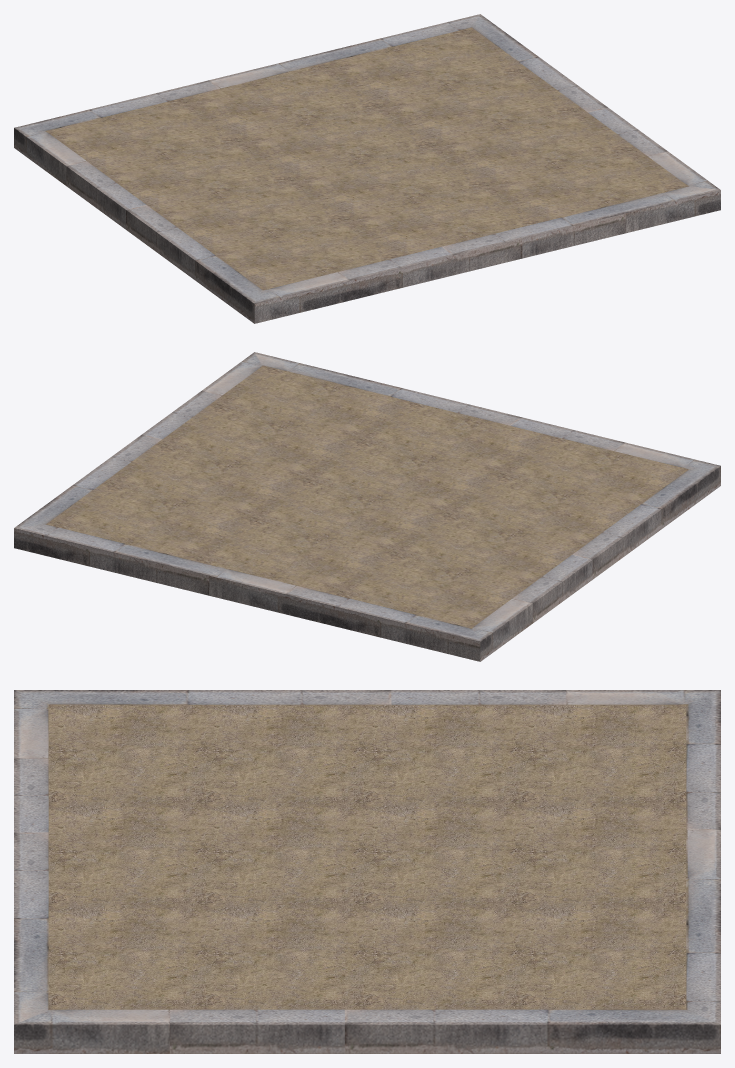
Rendered from SM_Sun_Kak_Kidan.fbx.
The picture shows the model from 3 angles, top to bottom: view 1: azimuth 30°, elevation 25°; view 2: azimuth 150°, elevation 25°; view 3: azimuth 270°, elevation 25°; orthographic projection. The views are drawn at different scales.
Parts seen in each view (by area): view 1: SM_Sun_Kak_Kidan; view 2: SM_Sun_Kak_Kidan; view 3: SM_Sun_Kak_Kidan.
Boxes of the visible parts, bbox=[...] form: SM_Sun_Kak_Kidan: bbox=[14, 14, 720, 323]; SM_Sun_Kak_Kidan: bbox=[14, 352, 720, 661]; SM_Sun_Kak_Kidan: bbox=[14, 690, 720, 1053].
Size of the model in its own units: 731 by 30.1 by 653.
